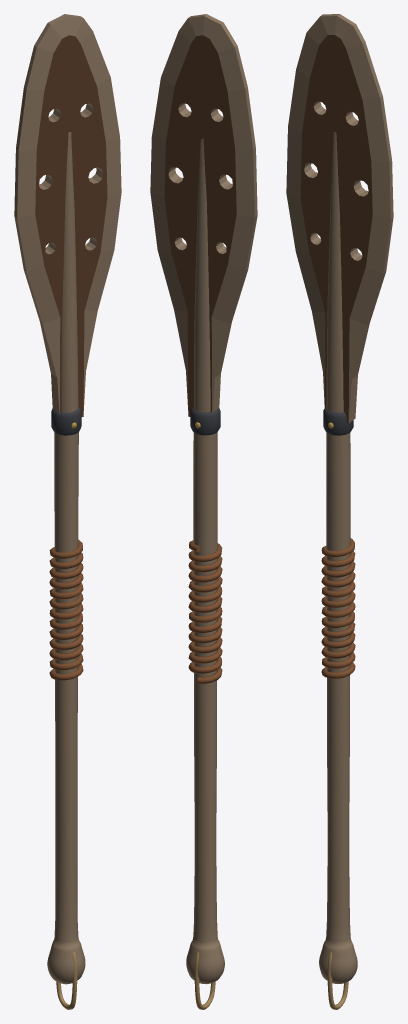
The model's file is tool_tanningpaddle.fbx.
The picture shows the model from 3 angles, left to right: view 1: azimuth 30°, elevation 25°; view 2: azimuth 150°, elevation 25°; view 3: azimuth 330°, elevation 25°; orthographic projection.
Parts seen in each view (by area): view 1: Tool_TanningPaddle_Blade, Tool_TanningPaddle_Shaft, Tool_TanningPaddle_GripWrap, Tool_TanningPaddle_Collar; view 2: Tool_TanningPaddle_Blade, Tool_TanningPaddle_Shaft, Tool_TanningPaddle_GripWrap, Tool_TanningPaddle_Collar; view 3: Tool_TanningPaddle_Blade, Tool_TanningPaddle_Shaft, Tool_TanningPaddle_GripWrap, Tool_TanningPaddle_Collar.
Part boxes in pixels (x1=…): Tool_TanningPaddle_Blade: x1=14, y1=14, x2=121, y2=416; Tool_TanningPaddle_Shaft: x1=47, y1=132, x2=85, y2=984; Tool_TanningPaddle_GripWrap: x1=49, y1=539, x2=83, y2=1009; Tool_TanningPaddle_Collar: x1=51, y1=408, x2=81, y2=435; Tool_TanningPaddle_Blade: x1=150, y1=14, x2=257, y2=416; Tool_TanningPaddle_Shaft: x1=186, y1=138, x2=224, y2=984; Tool_TanningPaddle_GripWrap: x1=188, y1=540, x2=222, y2=1009; Tool_TanningPaddle_Collar: x1=190, y1=407, x2=220, y2=435; Tool_TanningPaddle_Blade: x1=286, y1=14, x2=393, y2=423; Tool_TanningPaddle_Shaft: x1=319, y1=132, x2=357, y2=983; Tool_TanningPaddle_GripWrap: x1=321, y1=538, x2=355, y2=1009; Tool_TanningPaddle_Collar: x1=323, y1=408, x2=353, y2=435.
Bounding box in the file's own units: 19.5 × 177 × 6.25.
